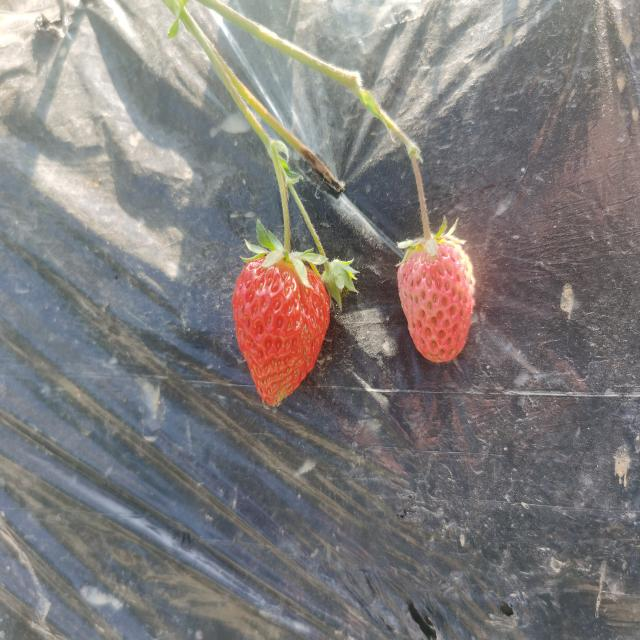stem: (417, 187, 432, 245), (280, 193, 290, 256)
strawberry: (232, 253, 330, 406), (397, 238, 473, 362)
